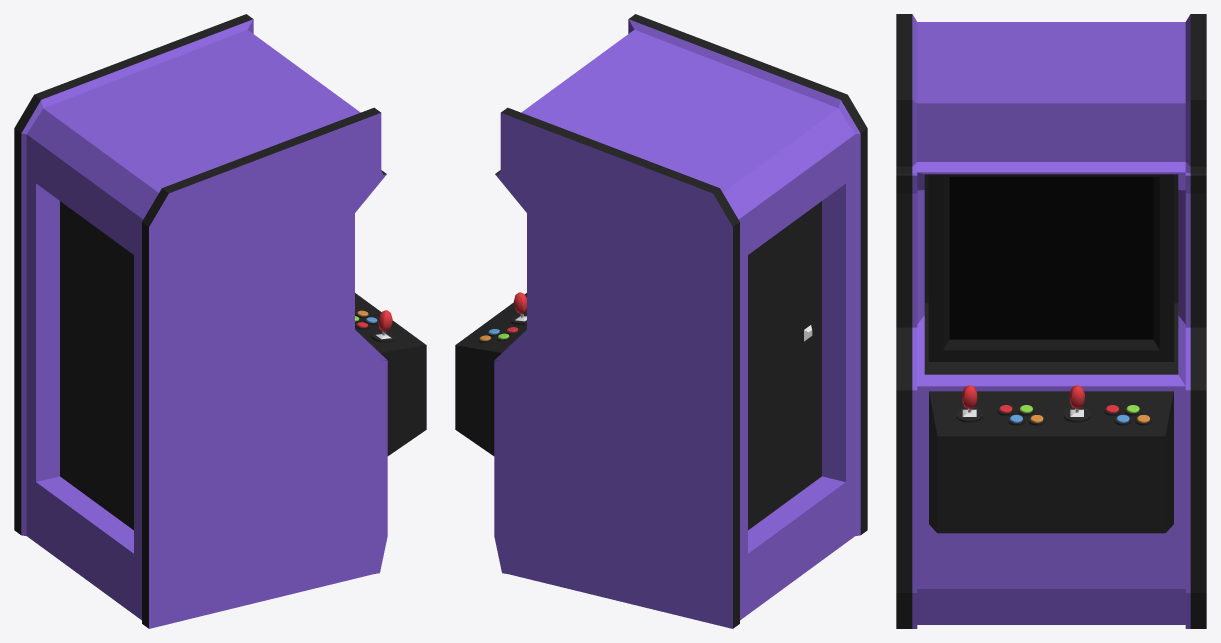
The picture shows the model from 3 angles, left to right: view 1: azimuth 30°, elevation 25°; view 2: azimuth 150°, elevation 25°; view 3: azimuth 270°, elevation 25°; orthographic projection. The views are drawn at different scales.
Visible parts, largest first — view 1: cabinet_0; view 2: cabinet_0; view 3: cabinet_0, screen_12, lever2_3, lever1_2.
Boxes of the visible parts, box(x1,y1,x2,y2) form: cabinet_0: box(14, 14, 426, 628); cabinet_0: box(455, 14, 867, 628); cabinet_0: box(896, 14, 1206, 628); screen_12: box(928, 174, 1174, 361); lever2_3: box(1064, 385, 1090, 422); lever1_2: box(956, 385, 982, 422).
Size of the model in its own units: 8.85 by 13.17 by 7.
